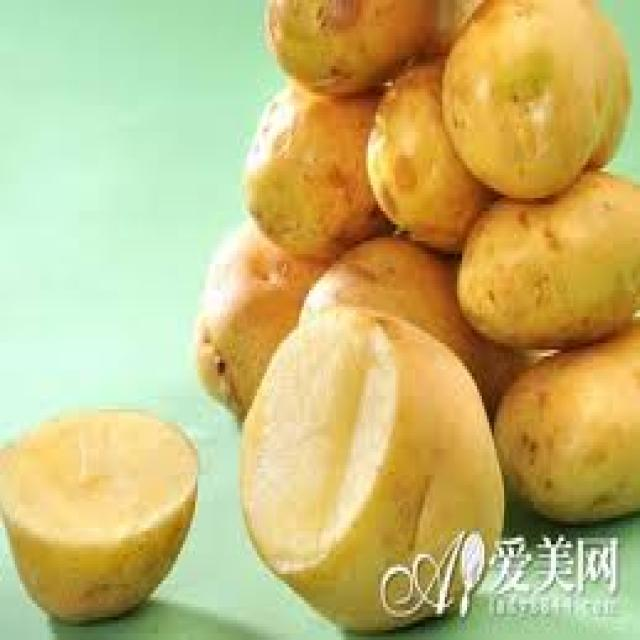food_waste: (195, 0, 638, 627), (0, 409, 195, 620)
